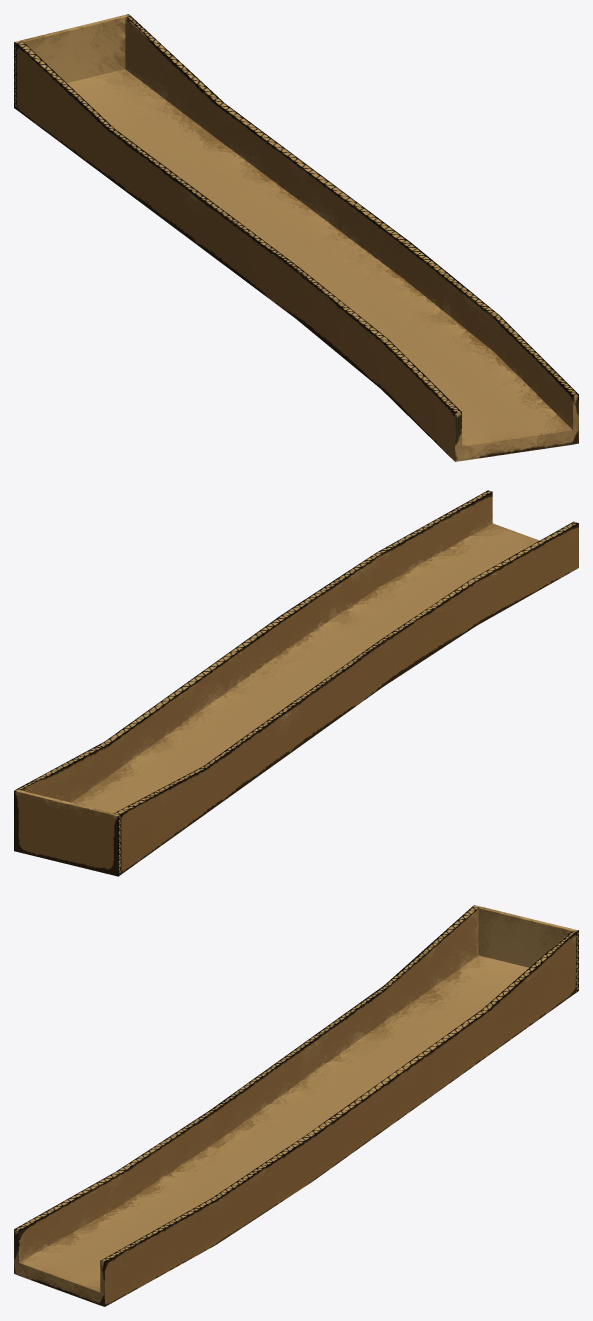
The model's file is SM_Part4_Playtrack.fbx.
3 renders of one model, top to bottom at view 1: azimuth 30°, elevation 25°; view 2: azimuth 150°, elevation 25°; view 3: azimuth 330°, elevation 25°, orthographic. The views are drawn at different scales.
Visible parts, largest first — view 1: Panel_4; view 2: Panel_4; view 3: Panel_4.
Part boxes in pixels (left/top/right/bottom): Panel_4: left=14, top=14, right=578, bottom=461; Panel_4: left=14, top=490, right=578, bottom=876; Panel_4: left=14, top=905, right=578, bottom=1306.
Size of the model in its own units: 3510 by 1513 by 20133.
